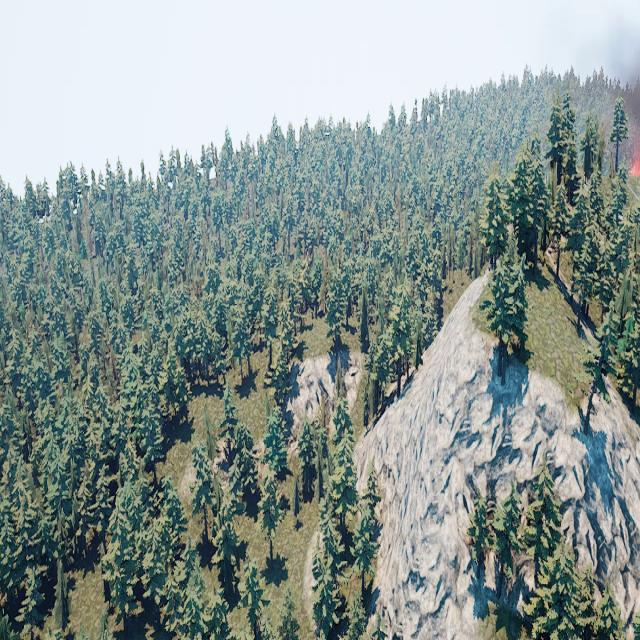smoke: (625, 52, 640, 173)
